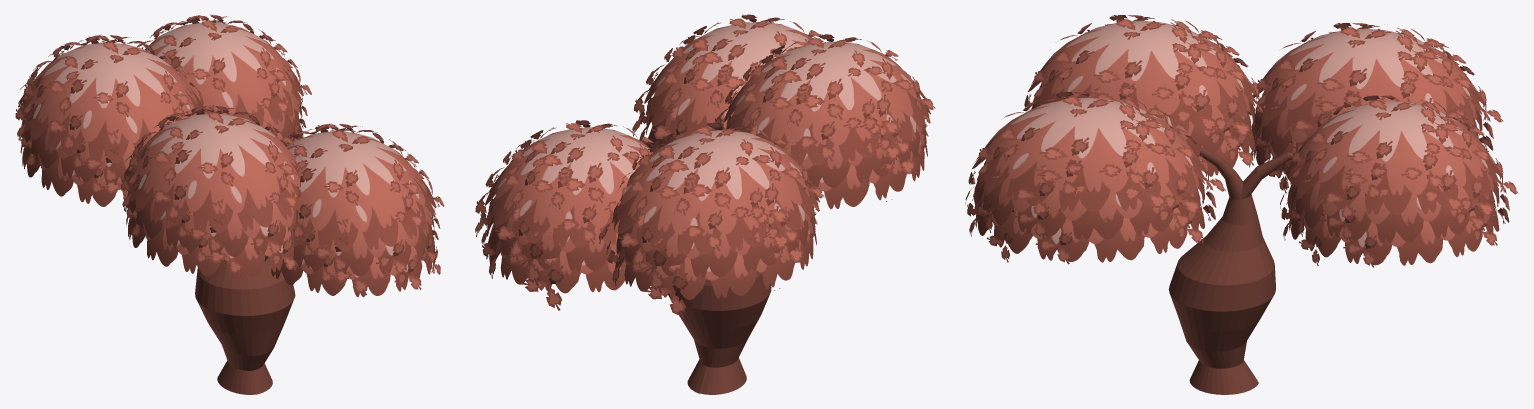
Rendered from ThreeCrimson1.fbx.
3 renders of one model, left to right at view 1: azimuth 30°, elevation 25°; view 2: azimuth 150°, elevation 25°; view 3: azimuth 270°, elevation 25°, orthographic. The views are drawn at different scales.
Parts seen in each view (by area): view 1: ThreeCrimson1; view 2: ThreeCrimson1; view 3: ThreeCrimson1.
Boxes of the visible parts, x1,y1,x2,y2 form: ThreeCrimson1: (15,14,444,394); ThreeCrimson1: (475,14,935,394); ThreeCrimson1: (965,15,1518,394).
Bounding box in the file's own units: 2124 × 2209 × 3415.
